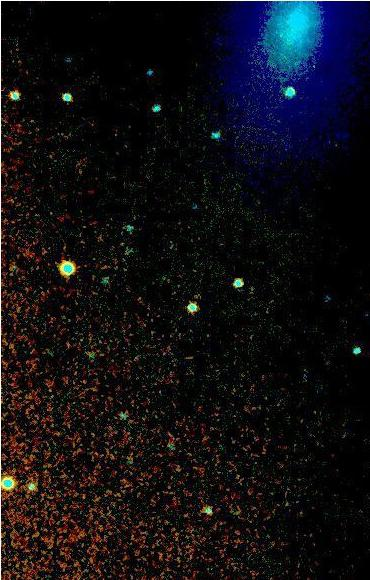star: (266, 18, 296, 48)
